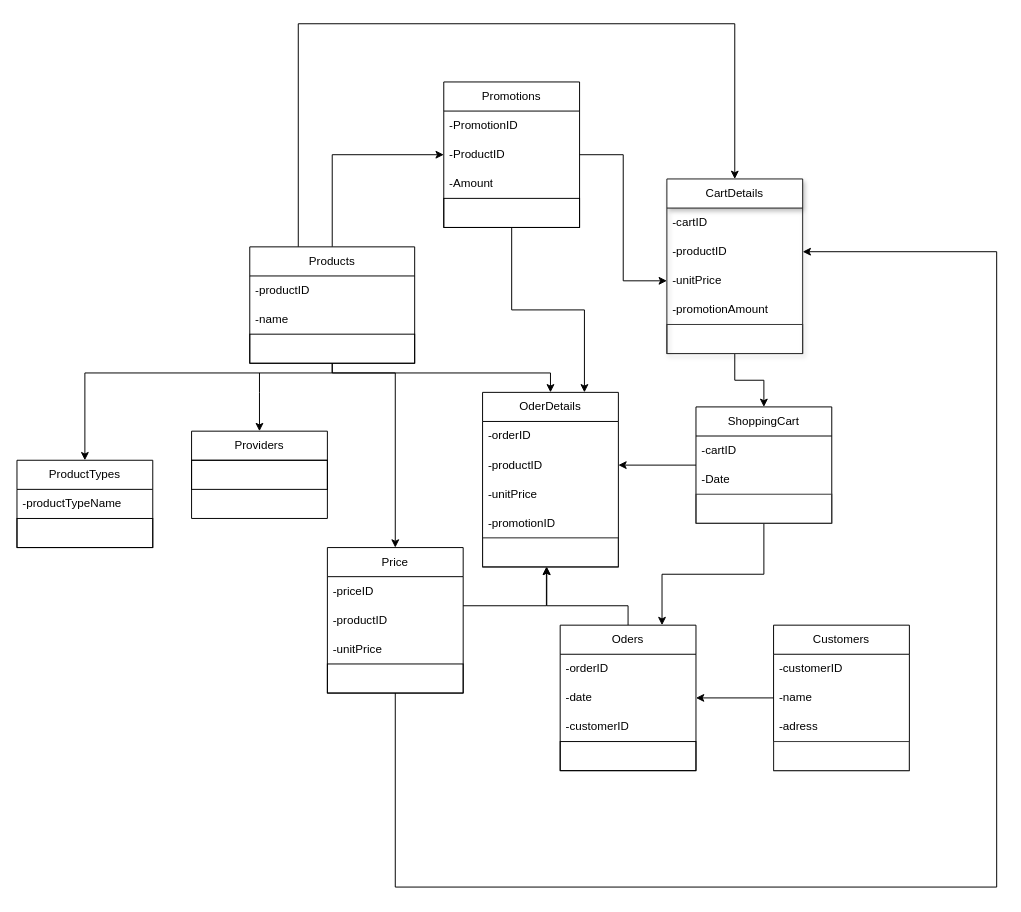
Image size: 1021x912. Some labels were removed from this diagram. Here are the shapes that lost their labels. From the top down, the centre of each, then its label:
At point 332,348: "-getter/setter();".
At point 259,474: "-providerName".
At point 841,756: "-getter/setter()".
